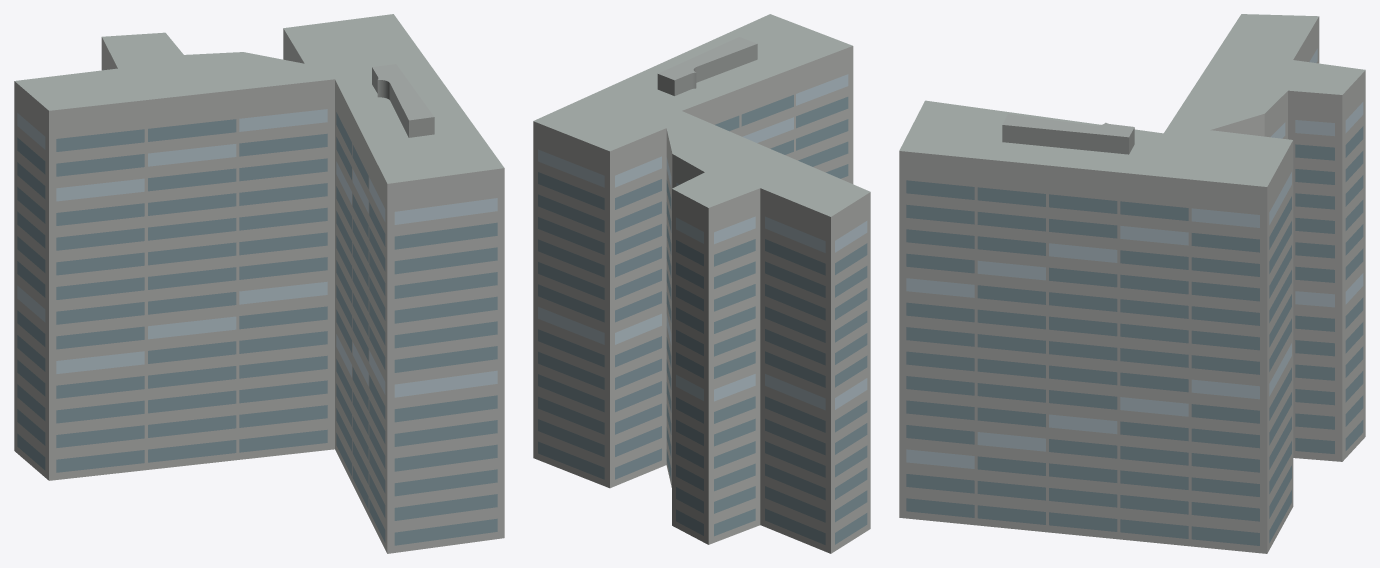
Rendered from fallback-godeok-gracium-107.glb.
3 views of the same model, side by side, from view 1: azimuth 30°, elevation 25°; view 2: azimuth 150°, elevation 25°; view 3: azimuth 270°, elevation 25° (orthographic). The views are drawn at different scales.
Visible parts, largest first — view 1: fallback-godeok-gracium-107; view 2: fallback-godeok-gracium-107; view 3: fallback-godeok-gracium-107.
Part boxes in pixels (left/top/right/bottom): fallback-godeok-gracium-107: left=14, top=14, right=504, bottom=553; fallback-godeok-gracium-107: left=533, top=14, right=870, bottom=553; fallback-godeok-gracium-107: left=899, top=14, right=1365, bottom=553.
Bounding box in the file's own units: 45.41 × 47 × 51.73.
